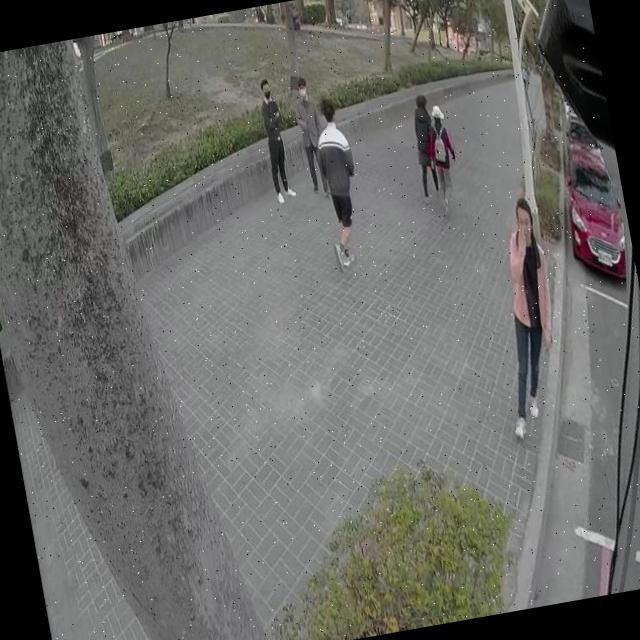person: (474, 192, 575, 436), (306, 95, 372, 273), (253, 74, 296, 202), (424, 102, 466, 214), (291, 76, 330, 192), (406, 94, 445, 202)
